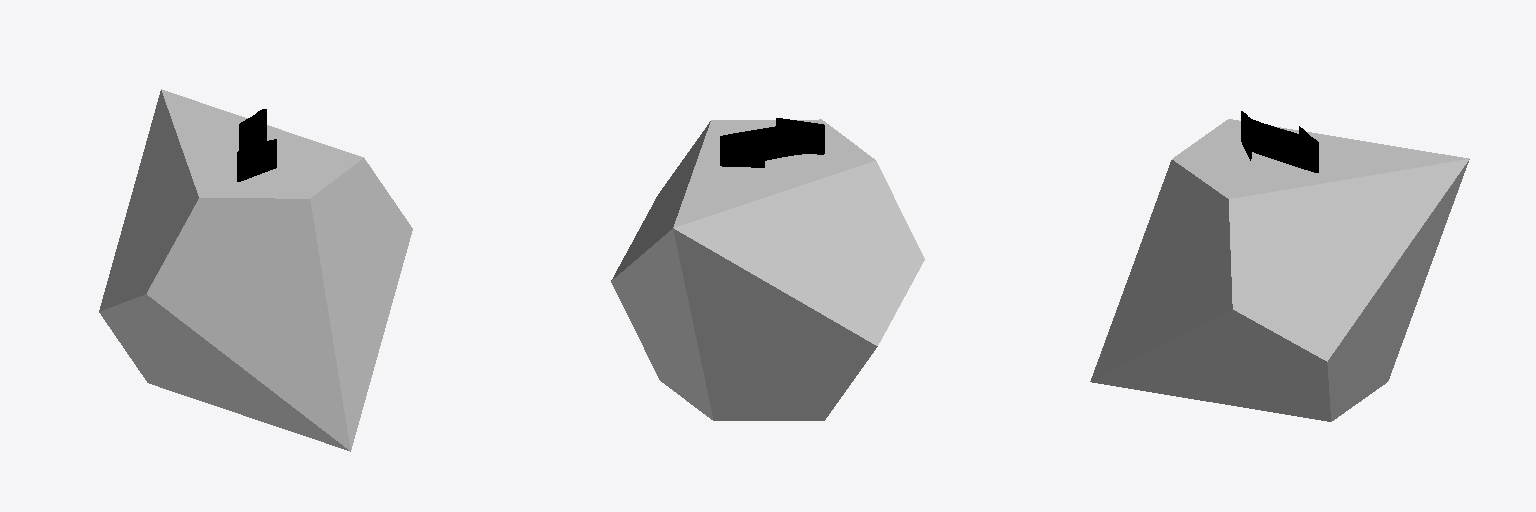
3 renders of one model, left to right at view 1: azimuth 30°, elevation 25°; view 2: azimuth 150°, elevation 25°; view 3: azimuth 270°, elevation 25°, orthographic.
Parts seen in each view (by area): view 1: Outside, 1; view 2: Outside, 1; view 3: Outside, 1.
Boxes of the visible parts, box(x1,y1,x2,y2) form: Outside: box(99, 89, 412, 451); 1: box(237, 109, 276, 181); Outside: box(611, 119, 924, 420); 1: box(720, 118, 824, 167); Outside: box(1090, 119, 1469, 421); 1: box(1241, 111, 1318, 172).
Size of the model in its own units: 11.91 by 10.77 by 14.68.